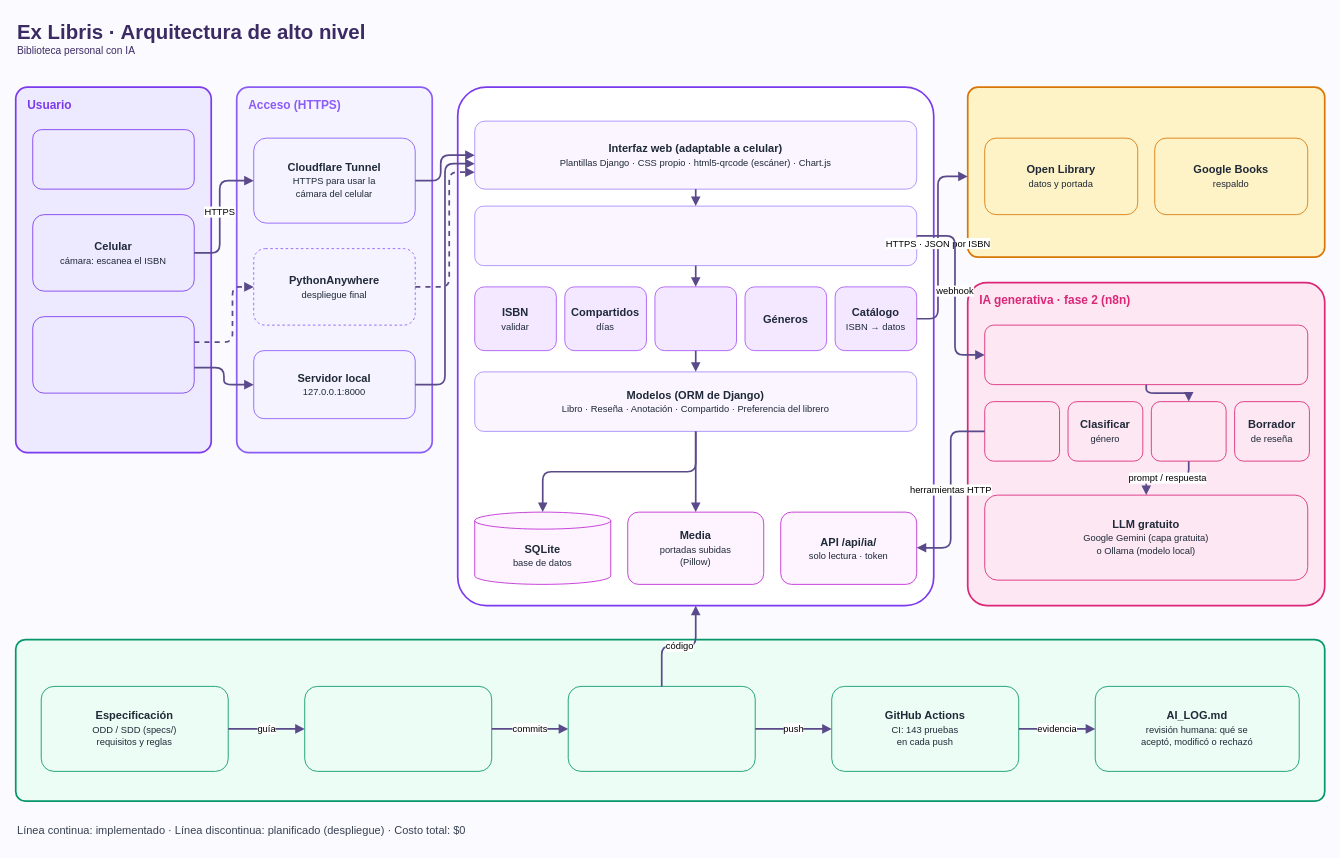
This 1340x858 diagram has some shape labels left out. Here are the shapes that lost their labels. From the top down, the box of each, then its label:
(32, 129, 194, 189): Persona lectora su biblioteca personal
(966, 86, 1325, 258): APIs públicas de libros (gratis, sin key)
(474, 205, 917, 266): Vistas y URLs Inicio de sesión · CSRF · cada persona ve solo sus libros
(654, 286, 737, 351): Estadísticas
(32, 316, 194, 393): Computadora navegador web
(456, 86, 934, 606): Ex Libris · Django 5.2 (Python)
(984, 324, 1308, 385): n8n (instalado en local, gratis) Webhooks · workflows como el Lab 14
(984, 401, 1060, 461): Agente preguntas
(1150, 401, 1226, 461): Resumir notas
(304, 686, 492, 771): Claude Code agente de desarrollo (plan Pro)
(567, 686, 755, 771): GitHub repositorio exlibris
(14, 638, 1325, 802): Ciclo de desarrollo asistido por IA
